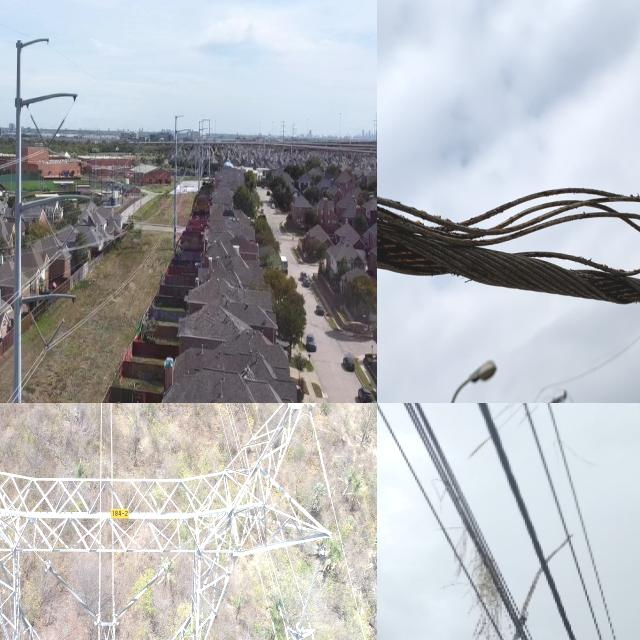杆塔: (0, 403, 340, 640)
植被遮挡: (450, 523, 516, 640)
正常绝缘子: (43, 558, 102, 629), (112, 560, 170, 628), (295, 544, 329, 636), (43, 212, 64, 253), (57, 218, 82, 250), (29, 112, 49, 150), (43, 317, 66, 350), (44, 117, 66, 151), (29, 311, 49, 348)
电缆破损: (426, 143, 640, 319)
